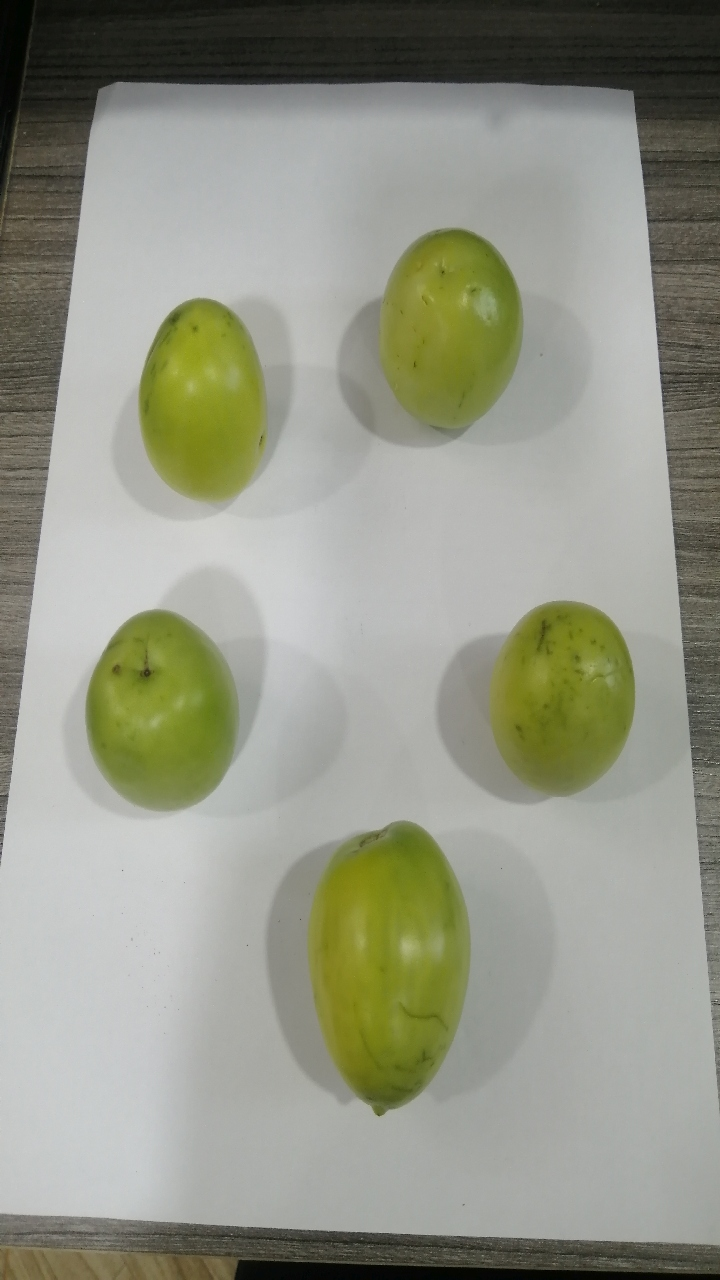tomateVerde: (275, 797, 474, 1126), (338, 199, 549, 454), (472, 579, 655, 806), (75, 591, 260, 814), (135, 277, 281, 499)
